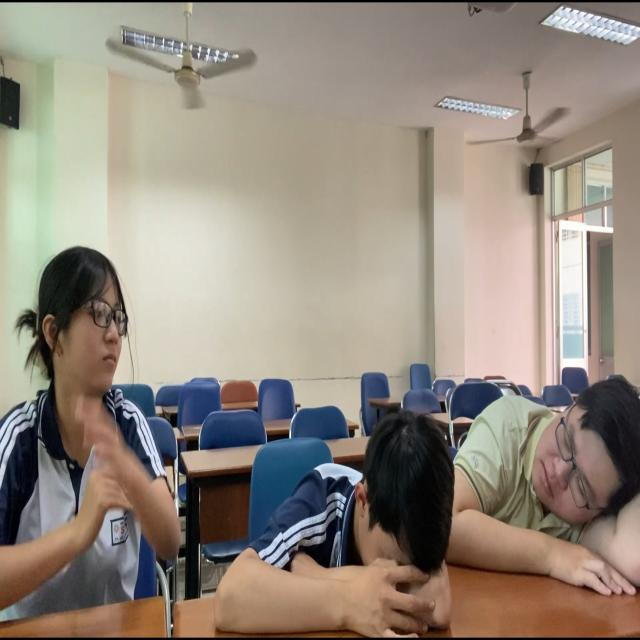sleep: (213, 412, 457, 640), (450, 357, 454, 368)
